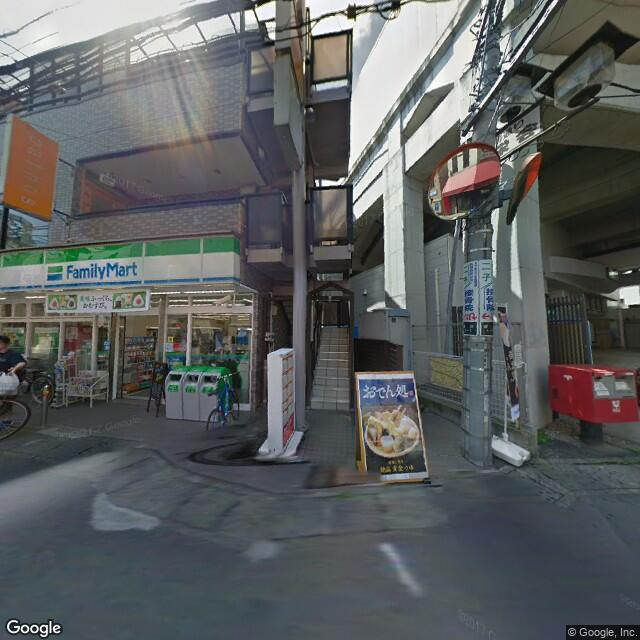family_mart: (1, 232, 240, 294), (47, 254, 146, 284)
